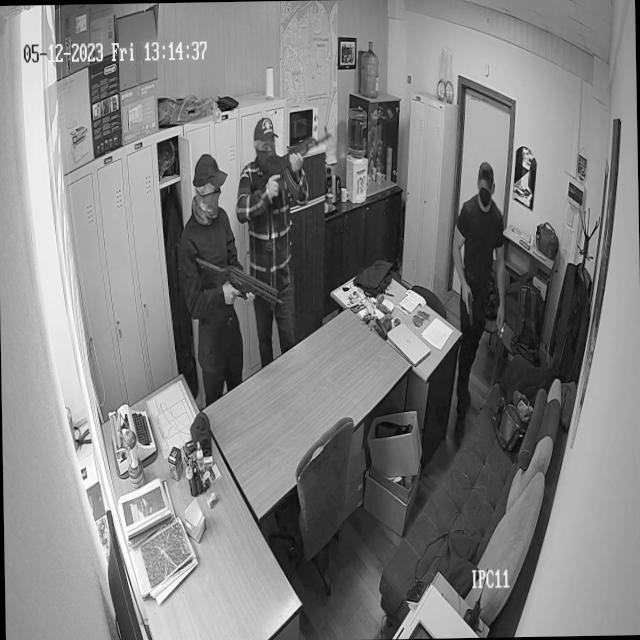gun: (194, 253, 284, 316), (252, 127, 333, 191), (464, 285, 475, 327)
person with a gun: (185, 154, 248, 387), (452, 164, 504, 418), (243, 117, 296, 358)
